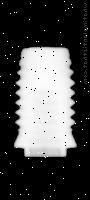Nobel Biocare: (14, 46, 80, 158)
